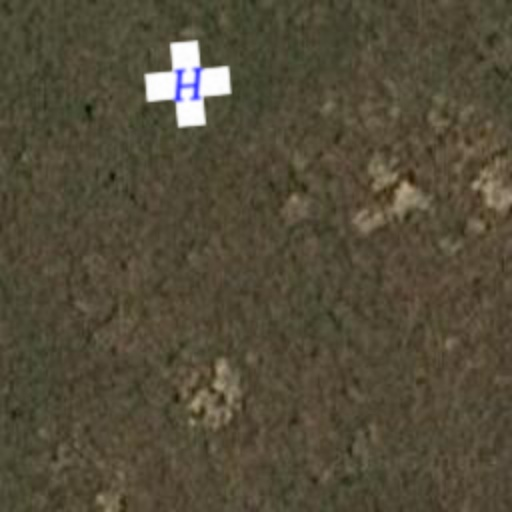cross: (140, 36, 236, 132)
